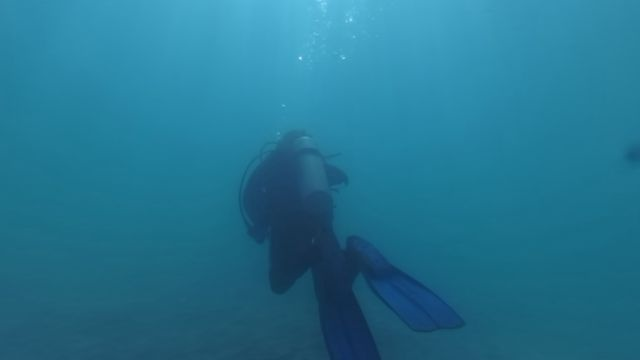Diver: (219, 115, 473, 357)
